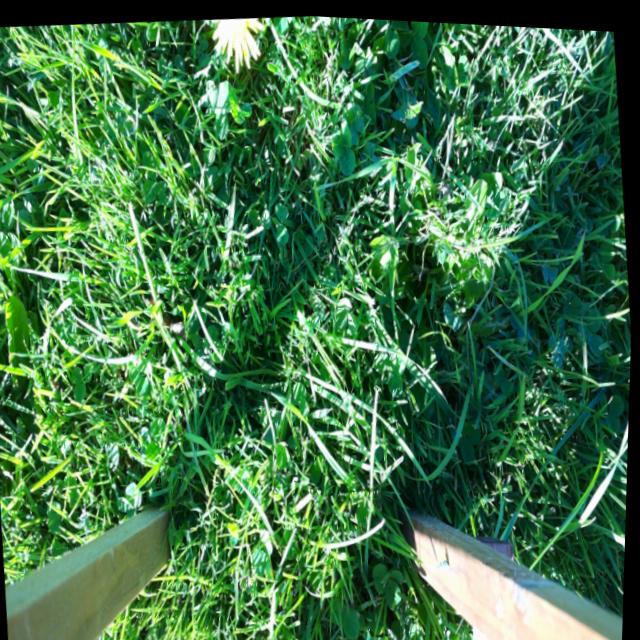base: (324, 81, 350, 120)
